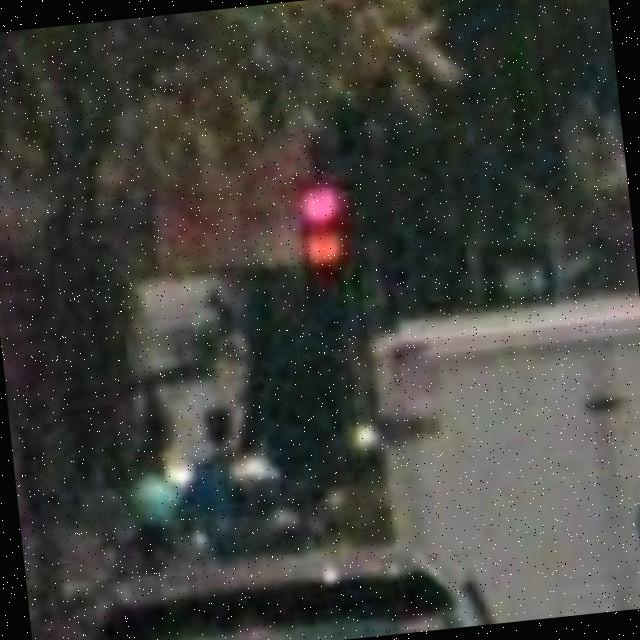Zolte swiatlo: (296, 174, 364, 318)
